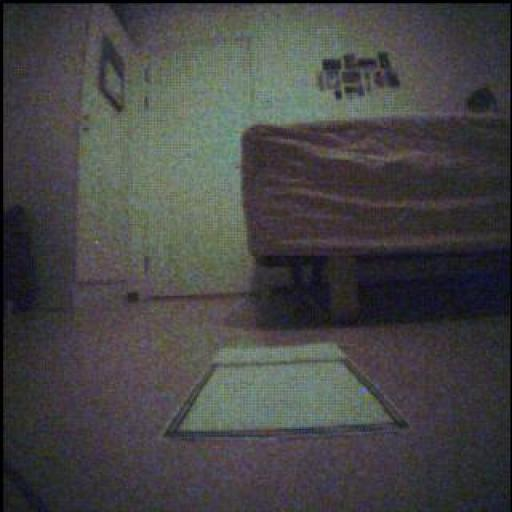pad: (166, 345, 409, 439)
